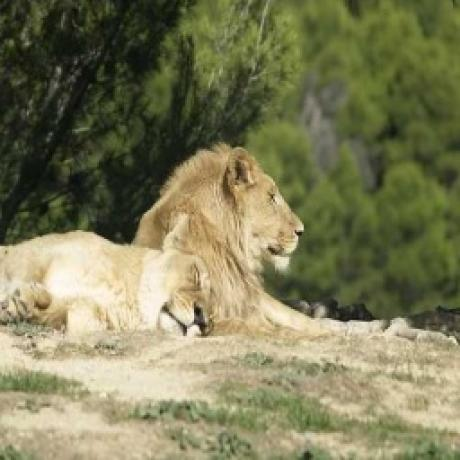Lion: (132, 136, 419, 336), (0, 214, 216, 340)
